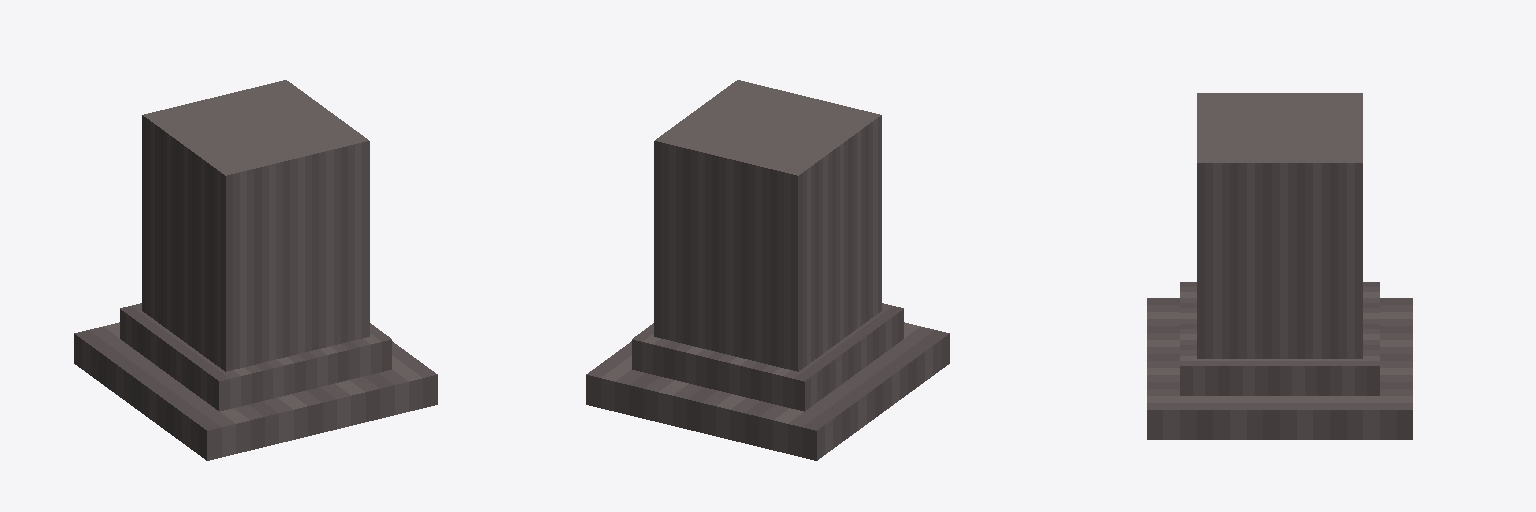
3 views of the same model, side by side, from view 1: azimuth 30°, elevation 25°; view 2: azimuth 150°, elevation 25°; view 3: azimuth 270°, elevation 25° (orthographic).
Visible parts, largest first — view 1: cuboid; view 2: cuboid; view 3: cuboid.
Boxes of the visible parts, x1,y1,x2,y2 form: cuboid: [74, 80, 437, 460]; cuboid: [586, 80, 949, 460]; cuboid: [1147, 93, 1412, 439].
Bounding box in the file's own units: 1 × 1.06 × 1.
Materials: 2 (1 with a texture image).